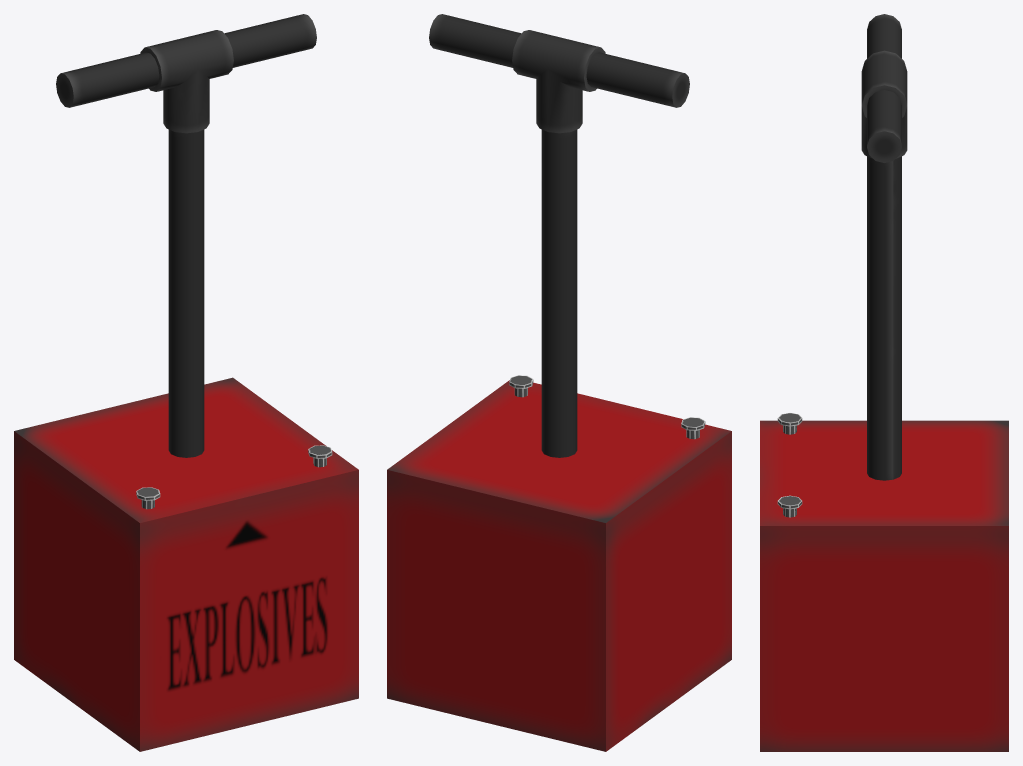
File: ExplosiveSwitch2.fbx
3 renders of one model, left to right at view 1: azimuth 30°, elevation 25°; view 2: azimuth 150°, elevation 25°; view 3: azimuth 270°, elevation 25°, orthographic.
Parts seen in each view (by area): view 1: ExplosiveSwitch2; view 2: ExplosiveSwitch2; view 3: ExplosiveSwitch2.
Boxes of the visible parts, x1,y1,x2,y2 form: ExplosiveSwitch2: (14,14,358,751); ExplosiveSwitch2: (387,14,731,751); ExplosiveSwitch2: (760,14,1008,751).
Size of the model in its own units: 0.3392 by 0.8518 by 0.3042.
